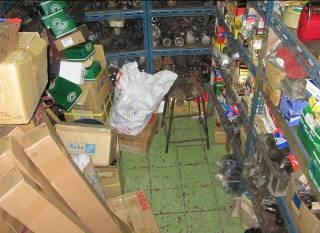box: (55, 119, 118, 168), (48, 75, 80, 111)
plastic_bag: (109, 59, 178, 137)
